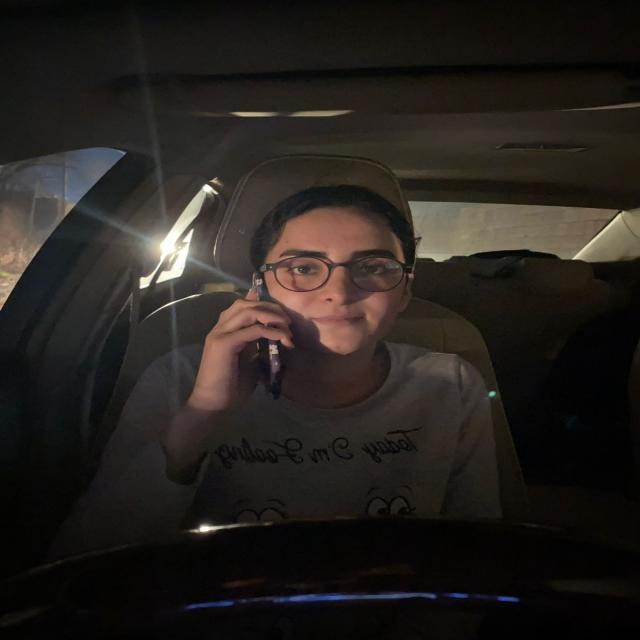phone: (246, 274, 283, 400)
